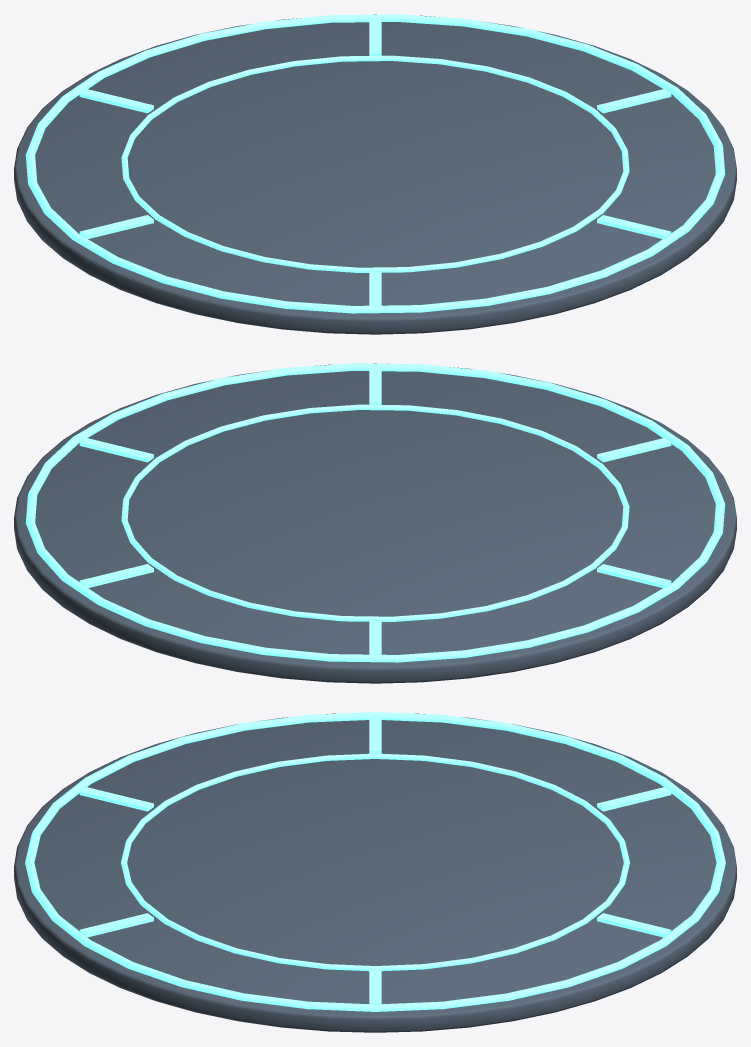
The model's file is dais.glb.
The picture shows the model from 3 angles, top to bottom: view 1: azimuth 30°, elevation 25°; view 2: azimuth 150°, elevation 25°; view 3: azimuth 270°, elevation 25°; orthographic projection.
Parts seen in each view (by area): view 1: disc, ring_outer, ring_inner, tick, tick.002, tick.003, tick.005; view 2: disc, ring_outer, ring_inner, tick, tick.004, tick.003, tick.001; view 3: disc, ring_outer, ring_inner, tick.002, tick.004, tick.001, tick.005.
Part boxes in pixels (left/top/right/bottom): disc: left=14, top=14, right=736, bottom=334; ring_outer: left=25, top=14, right=725, bottom=313; ring_inner: left=121, top=55, right=629, bottom=272; tick: left=597, top=89, right=671, bottom=113; tick.002: left=79, top=89, right=153, bottom=113; tick.003: left=79, top=215, right=153, bottom=238; tick.005: left=597, top=215, right=671, bottom=238; disc: left=14, top=363, right=736, bottom=683; ring_outer: left=25, top=363, right=725, bottom=662; ring_inner: left=121, top=404, right=629, bottom=621; tick: left=79, top=438, right=153, bottom=462; tick.004: left=597, top=438, right=671, bottom=462; tick.003: left=597, top=564, right=671, bottom=587; tick.001: left=79, top=564, right=153, bottom=587; disc: left=14, top=713, right=736, bottom=1032; ring_outer: left=25, top=712, right=725, bottom=1011; ring_inner: left=121, top=753, right=629, bottom=971; tick.002: left=597, top=787, right=671, bottom=811; tick.004: left=79, top=787, right=153, bottom=811; tick.001: left=597, top=913, right=671, bottom=937; tick.005: left=79, top=913, right=153, bottom=937.
Bounding box in the file's own units: 4.6 × 0.16 × 4.6.
